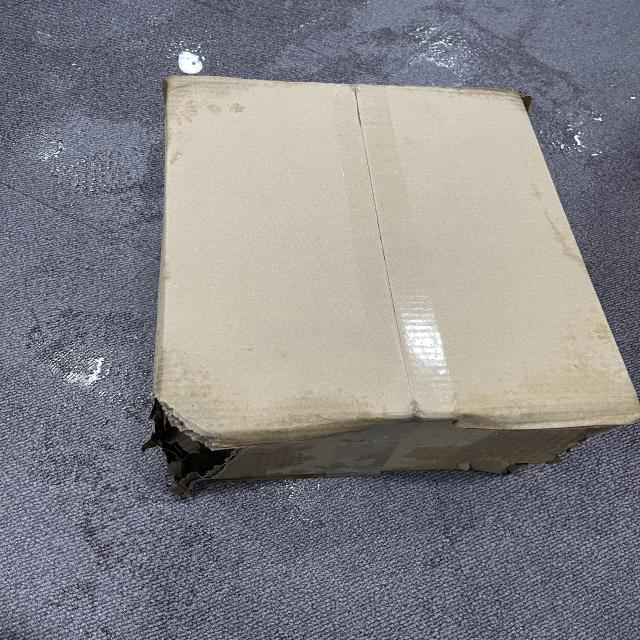hole: (143, 406, 241, 500)
wet: (458, 425, 622, 475)
